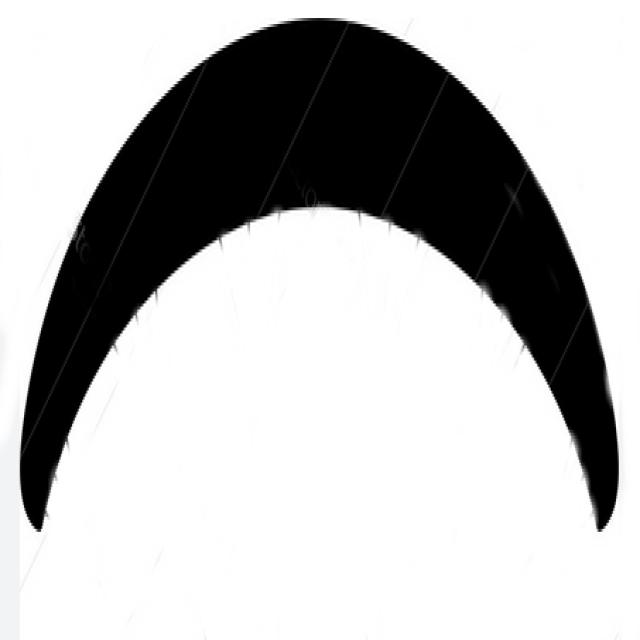paraglider: (18, 15, 619, 538)
